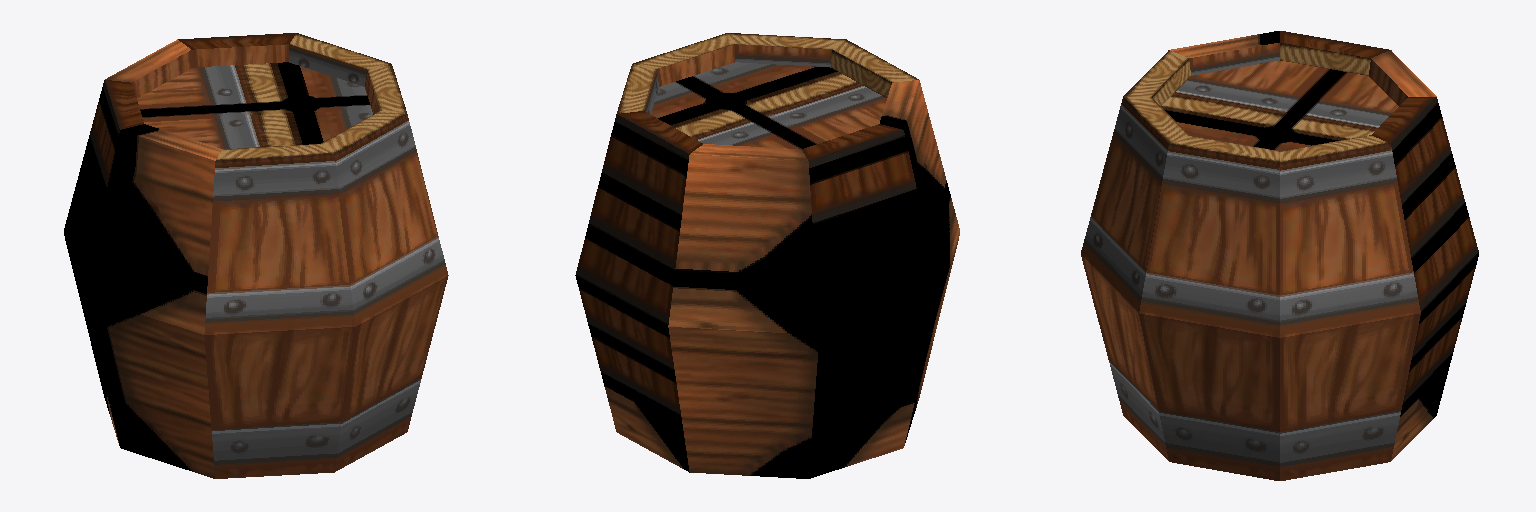
3 views of the same model, side by side, from view 1: azimuth 30°, elevation 25°; view 2: azimuth 150°, elevation 25°; view 3: azimuth 270°, elevation 25° (orthographic).
Size of the model in its own units: 14.99 by 13.2 by 14.99.
Materials: 1 (1 with a texture image).